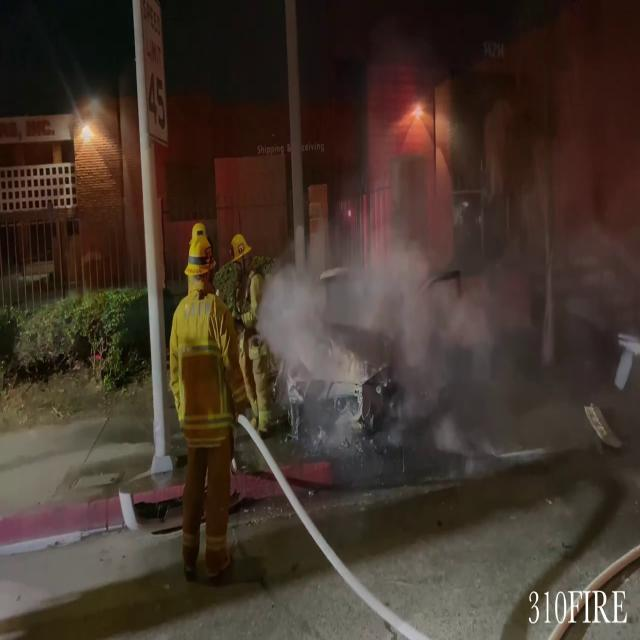Smoke: (270, 0, 640, 489)
